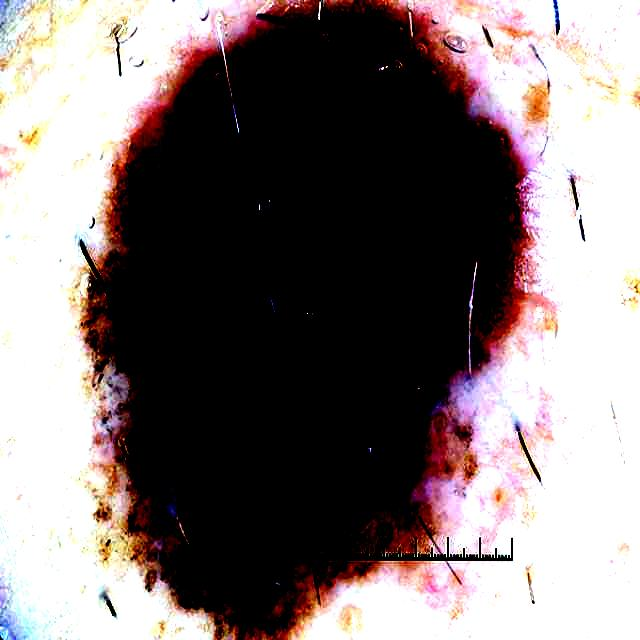MEL: (95, 6, 558, 552)
